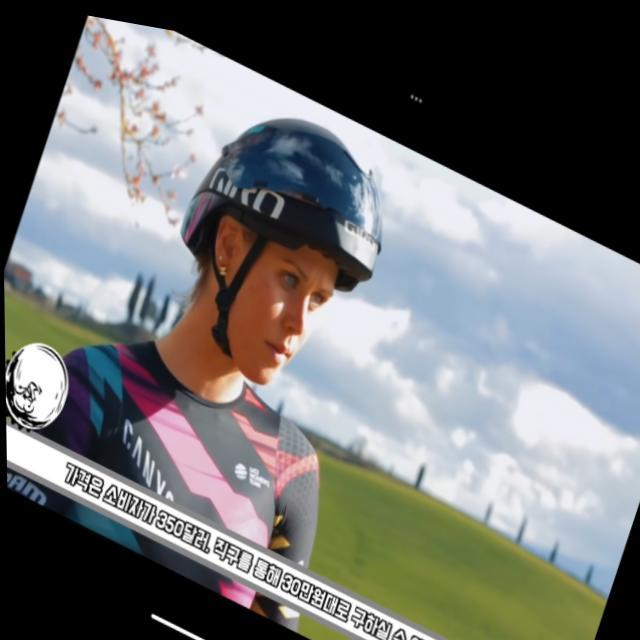Helmet: (146, 106, 393, 409)
